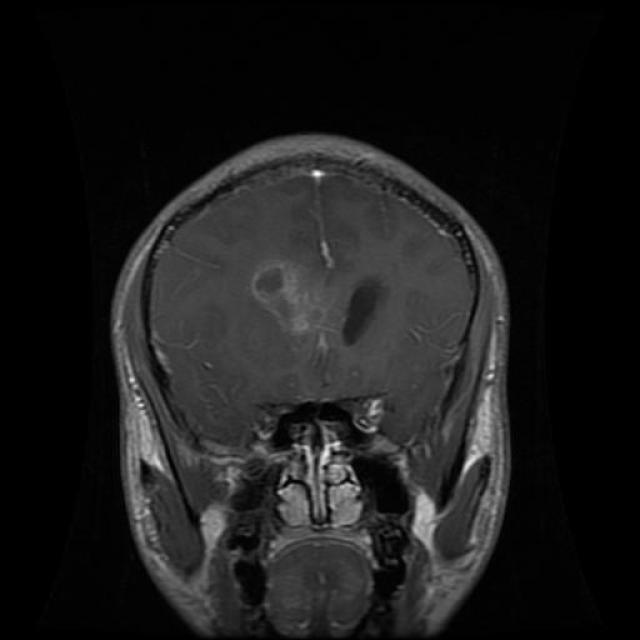glioma: (256, 248, 394, 352)
